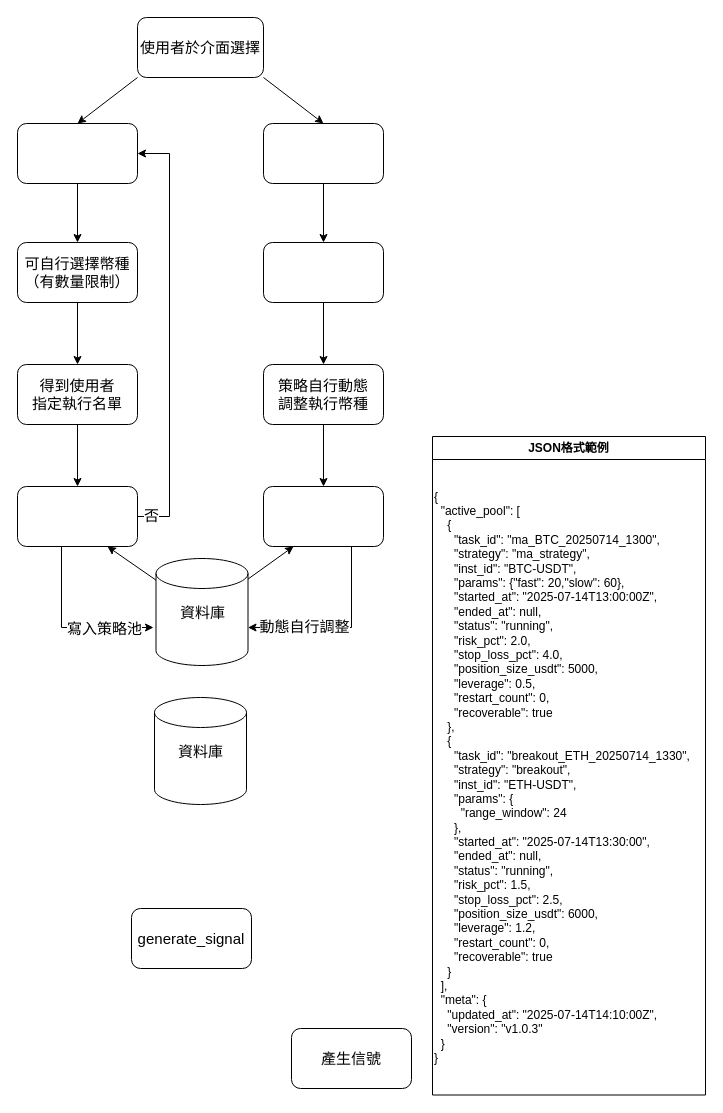
This 723x1113 diagram has some shape labels left out. The centre of each missing label's shape, as x and y in pixels:
一般策略: (x=77, y=153)
幣種同時也要滿足過濾器白名單: (x=323, y=516)
檢測是否位於過濾器白名單裡: (x=77, y=516)
無法選擇幣種: (x=323, y=272)
特殊策略: (x=323, y=153)
